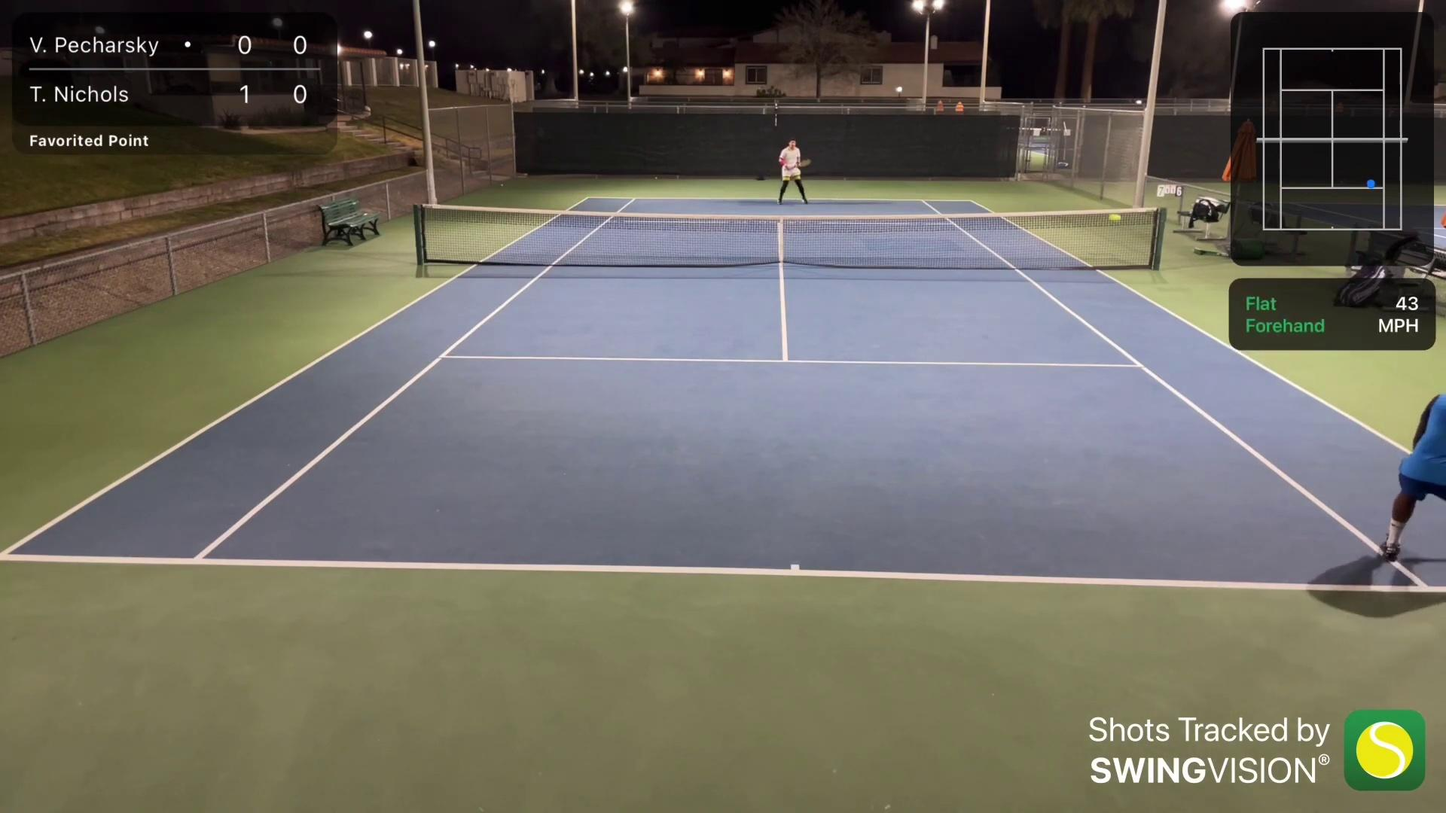ball: (1106, 207, 1126, 225), (499, 179, 506, 190)
